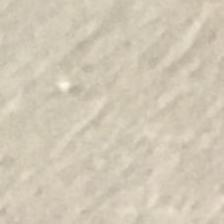Non_Crack: (6, 2, 224, 224)
